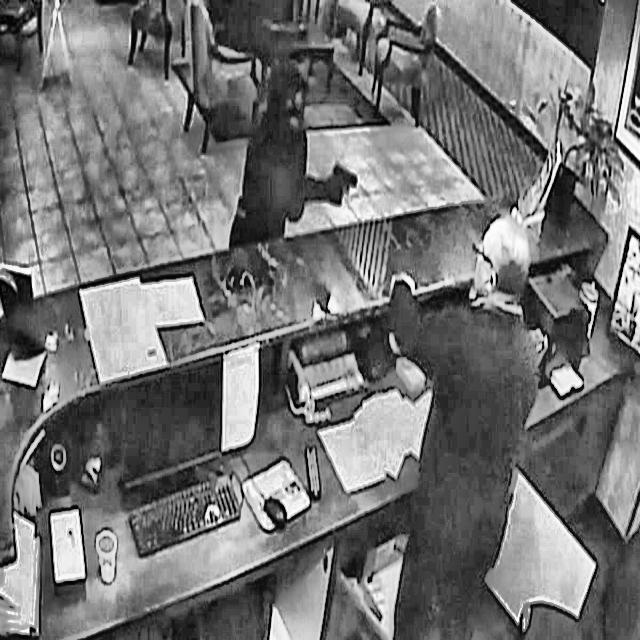robbery: (221, 47, 551, 639)
